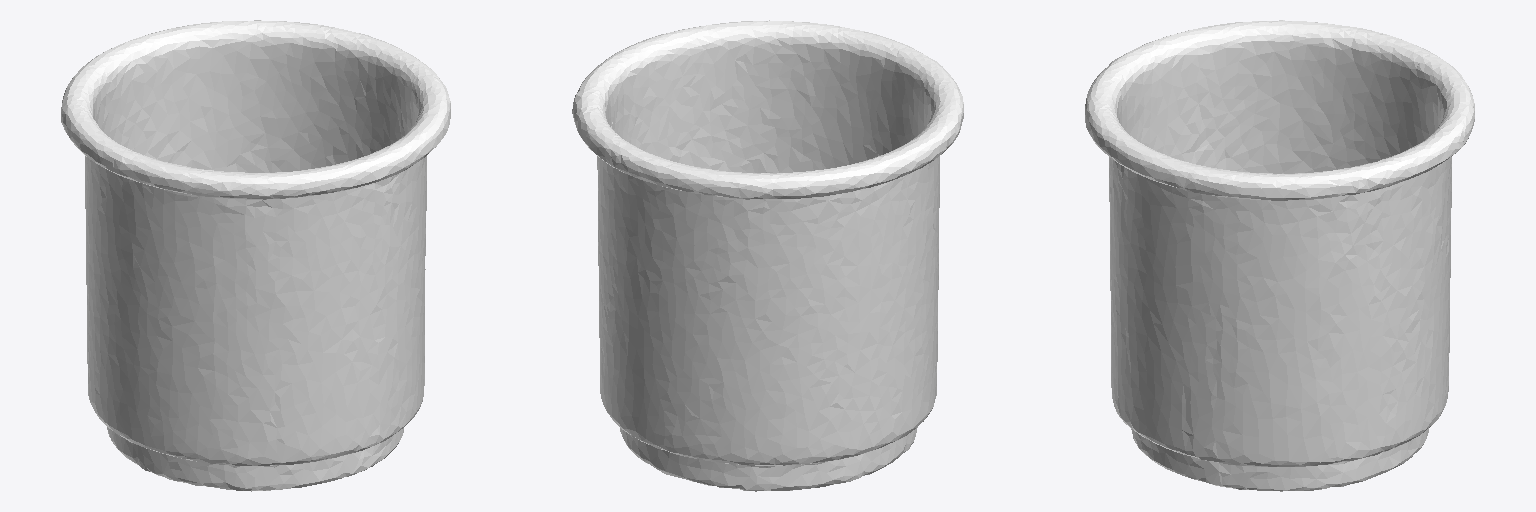
robot.urdf — e_cups:
<robot name="e_cups">
    <link name="base_link">
        <visual>
            <origin xyz="-0.0 -0.0 0.0" rpy="0.0 0.0 0.0" />
            <geometry>
                <mesh filename="e_cups/textured.obj" scale="1 1 1" />
            </geometry>
            <material name="texture">
                <color rgba="1.0 1.0 1.0 1.0" />
            </material>
        </visual>
        <collision>
            <origin xyz="-0.0 -0.0 0.0" rpy="0.0 0.0 0.0" />
            <geometry>
                <mesh filename="e_cups/textured_coacd_0.stl" scale="1 1 1" />
            </geometry>
        </collision>
        <collision>
            <origin xyz="-0.0 -0.0 0.0" rpy="0.0 0.0 0.0" />
            <geometry>
                <mesh filename="e_cups/textured_coacd_1.stl" scale="1 1 1" />
            </geometry>
        </collision>
        <collision>
            <origin xyz="-0.0 -0.0 0.0" rpy="0.0 0.0 0.0" />
            <geometry>
                <mesh filename="e_cups/textured_coacd_2.stl" scale="1 1 1" />
            </geometry>
        </collision>
        <collision>
            <origin xyz="-0.0 -0.0 0.0" rpy="0.0 0.0 0.0" />
            <geometry>
                <mesh filename="e_cups/textured_coacd_3.stl" scale="1 1 1" />
            </geometry>
        </collision>
        <collision>
            <origin xyz="-0.0 -0.0 0.0" rpy="0.0 0.0 0.0" />
            <geometry>
                <mesh filename="e_cups/textured_coacd_4.stl" scale="1 1 1" />
            </geometry>
        </collision>
        <inertial>
            <mass value="0.021" />
            <inertia ixx="1e-3" ixy="0.0" ixz="0.0" iyy="1e-3" iyz="0.0" izz="1e-3" />
        </inertial>
    </link>
</robot>

--- What the picture shows (computed from the rendered views, not written in the file) ---
3 views of the same robot in one strip: view 1: azimuth 30°, elevation 25°; view 2: azimuth 150°, elevation 25°; view 3: azimuth 270°, elevation 25° (orthographic).
Robot: e_cups — 1 links, 0 joints (none); root link base_link; default pose: every joint at zero.
Visible links, largest first — view 1: base_link; view 2: base_link; view 3: base_link.
Link boxes in pixels (x1,y1,x2,y2): base_link: [61, 20, 450, 491]; base_link: [572, 20, 963, 491]; base_link: [1085, 20, 1474, 491].
Size in the robot's own frame: 0.0751 by 0.0751 by 0.0707 metres.
1 mesh visuals loaded from 1 distinct referenced files (1 OBJ).